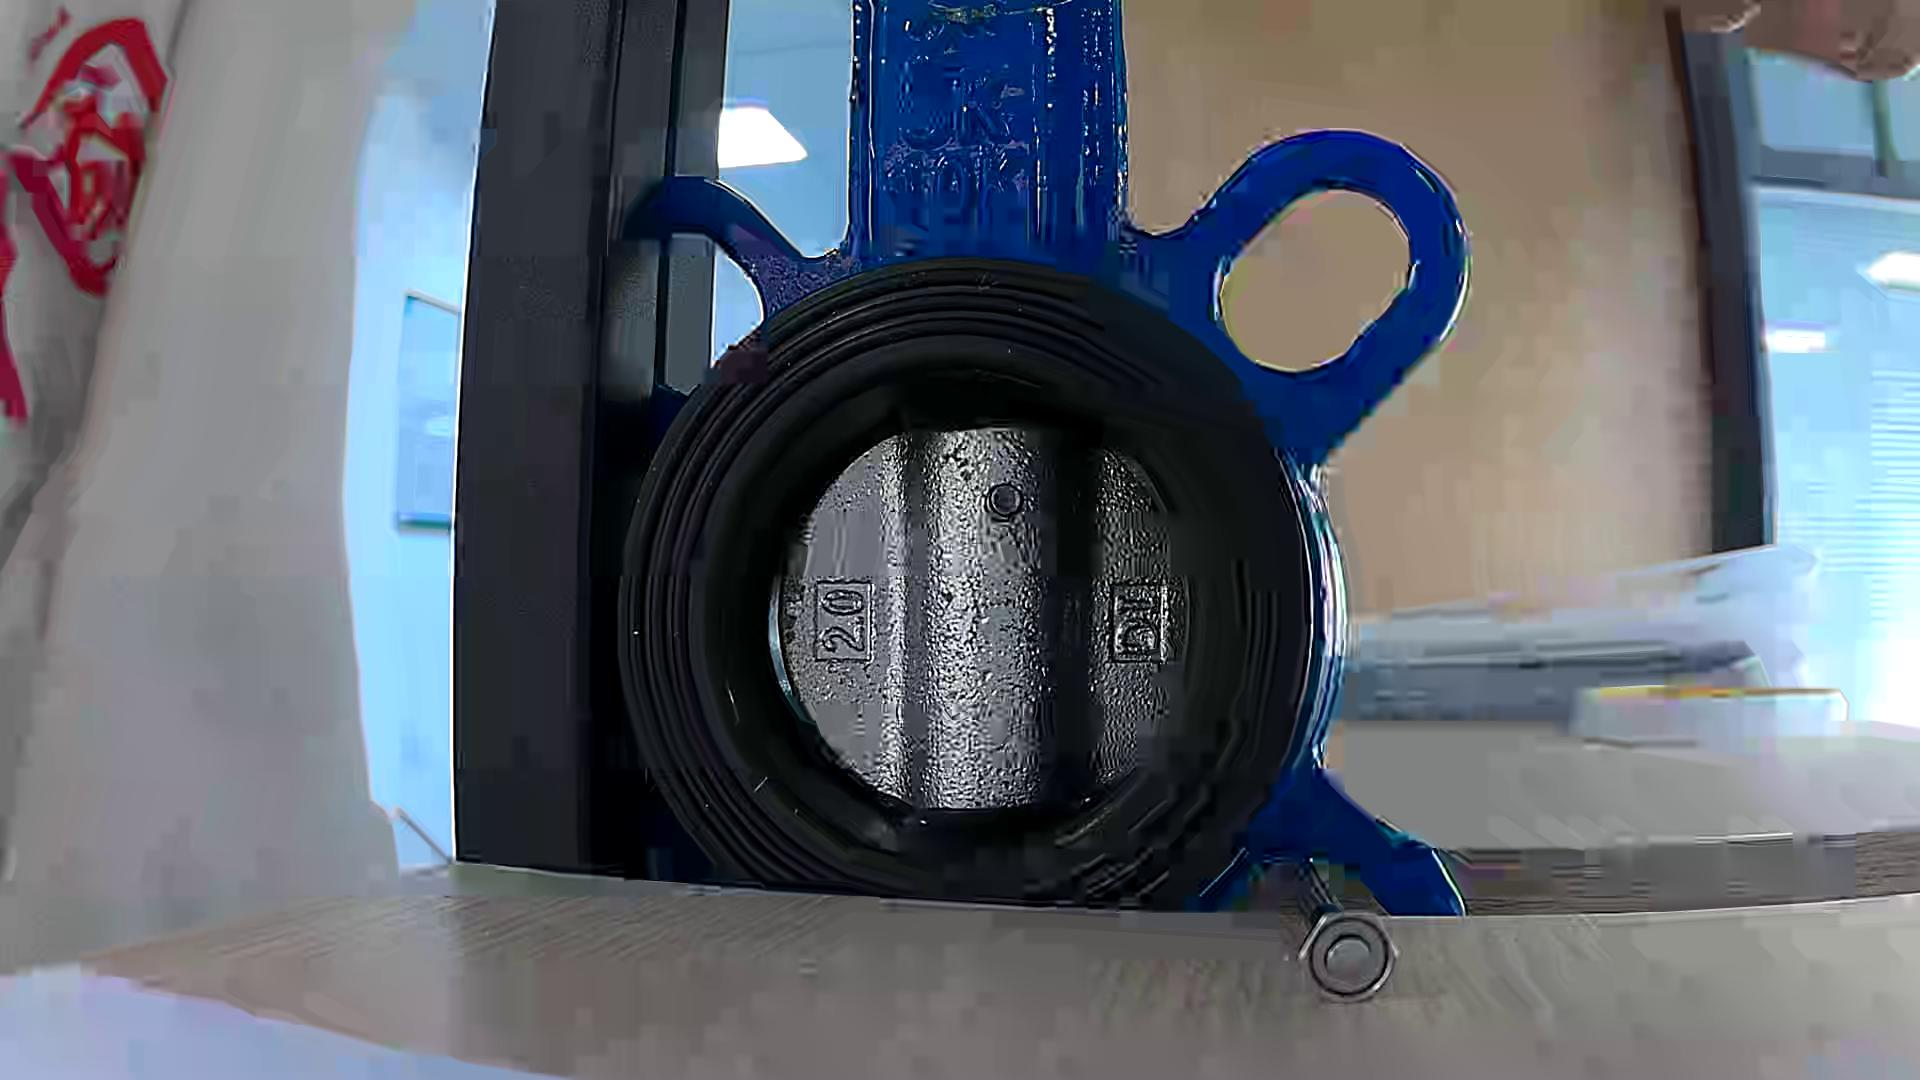valve: (781, 427, 1188, 810)
